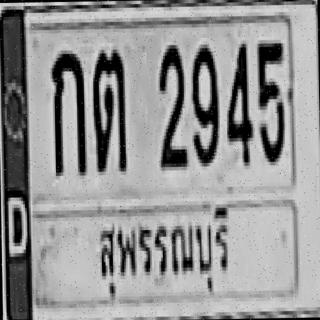A01: (50, 46, 85, 172)
A21: (90, 46, 124, 168)
N02: (157, 43, 185, 165)
N04: (224, 40, 252, 162)
N05: (255, 40, 283, 162)
N09: (190, 41, 218, 163)
P66: (89, 194, 233, 300)
